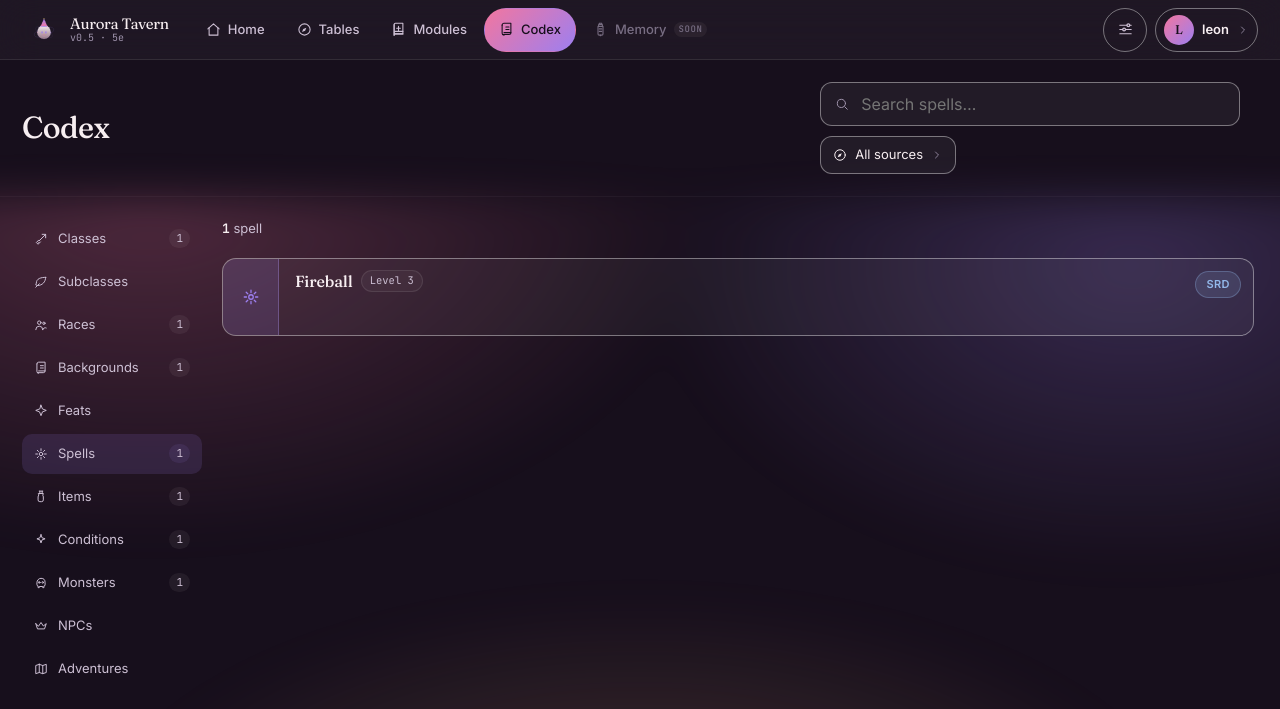
Test: search abuse (UI wiring) › a catastrophic-backtracking-shaped query does not hang the UI and reports zero results
Check: the option "Fireball Level 3 SRD" is shown, box 222,258 -> 1254,336
Type "(a+)+$" into the search field labelled "Search spells…" at (1042, 104), box 859,91 -> 1225,117
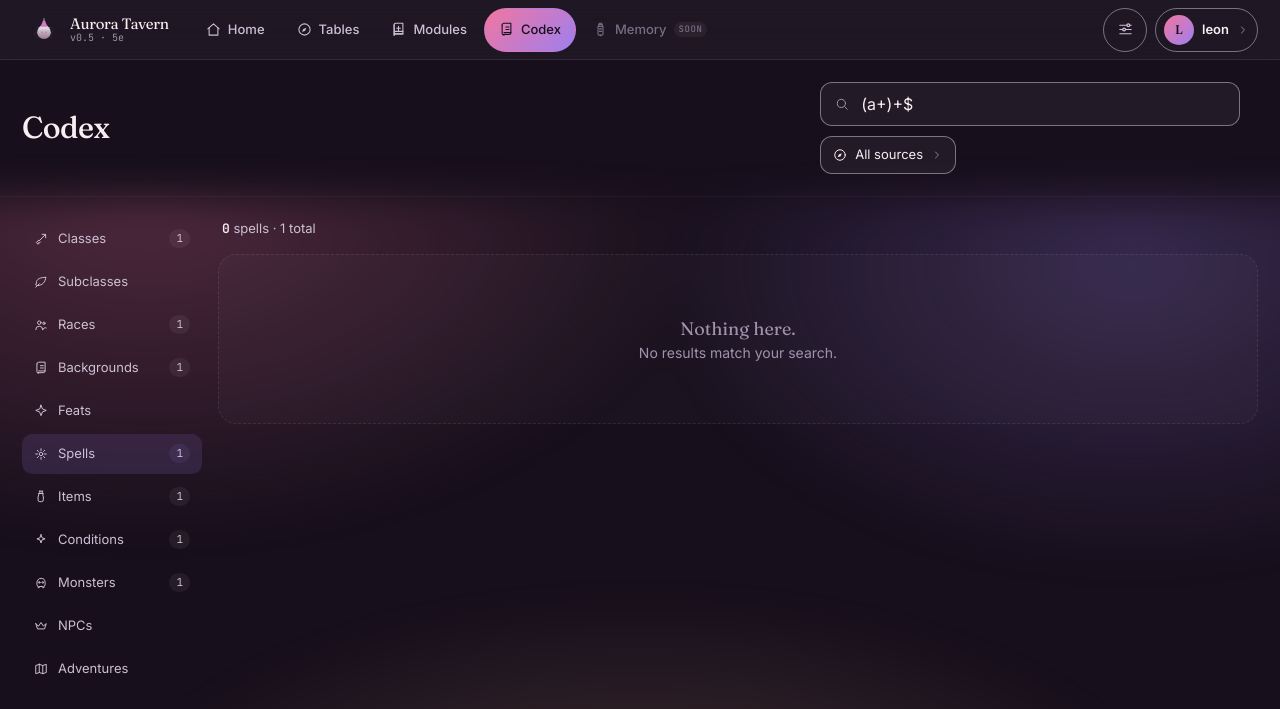
Check: the option "Fireball" is gone
Check: the text "No results match your search." is shown, box 639,344 -> 837,361
